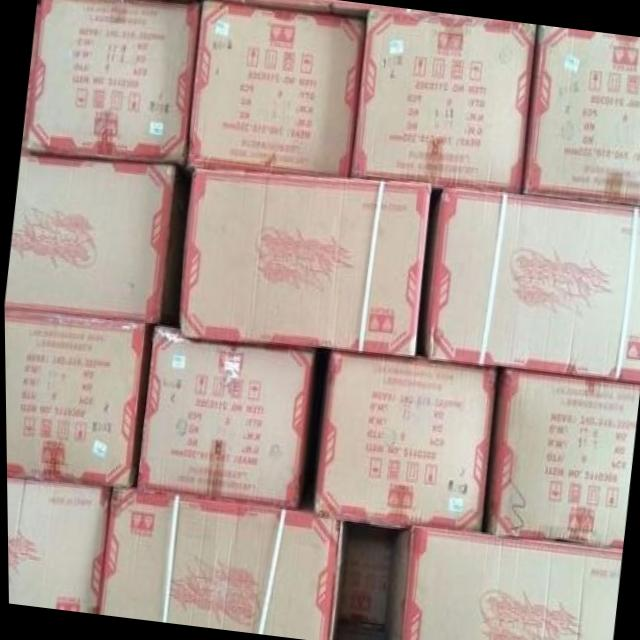box: (177, 168, 429, 357), (414, 185, 640, 384), (97, 485, 340, 640), (133, 325, 327, 512), (348, 6, 537, 195), (312, 349, 497, 534), (4, 152, 192, 329), (187, 0, 366, 179), (21, 0, 202, 167), (483, 368, 638, 547), (379, 526, 619, 640), (4, 305, 153, 488), (520, 27, 640, 206), (6, 475, 109, 612), (331, 516, 411, 631)
